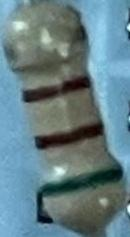Brown: (33, 120, 105, 155), (22, 74, 92, 106)
Green: (39, 166, 124, 201)
Side-Silver: (3, 14, 88, 63)
